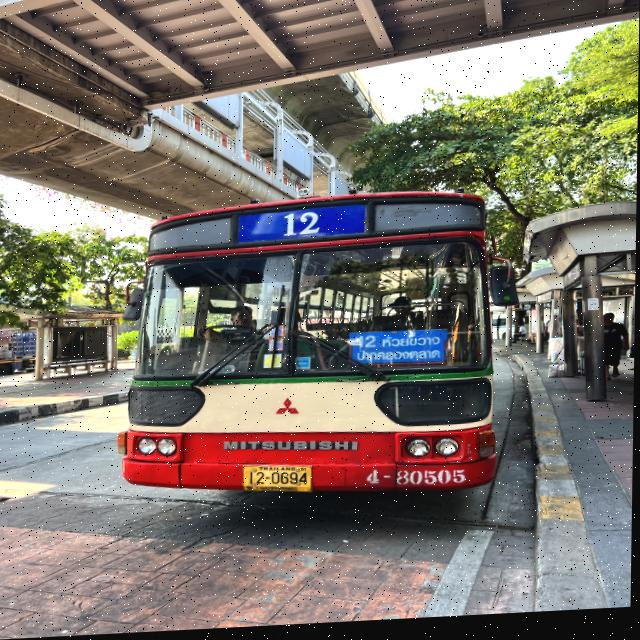BMTA-bus: (119, 190, 505, 514)
Bus-Line-Number: (236, 208, 370, 245)
Destination-Sign-Normal: (347, 332, 454, 372)
